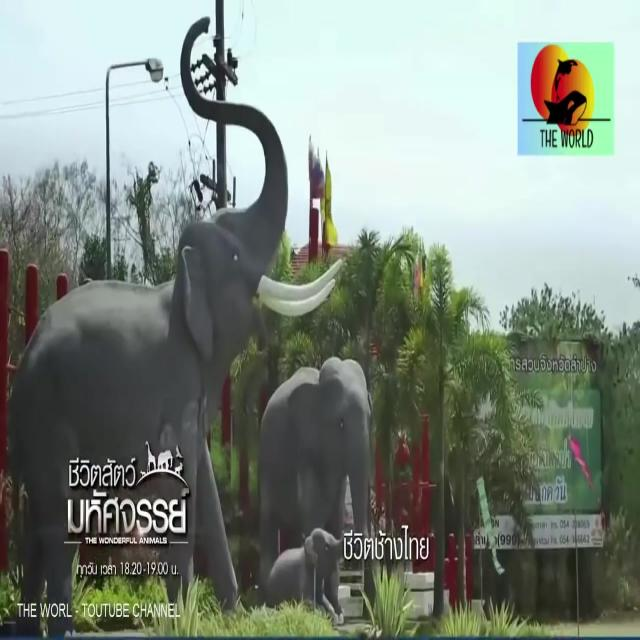Elephant: (35, 50, 280, 521), (257, 361, 385, 536), (264, 526, 350, 622)
